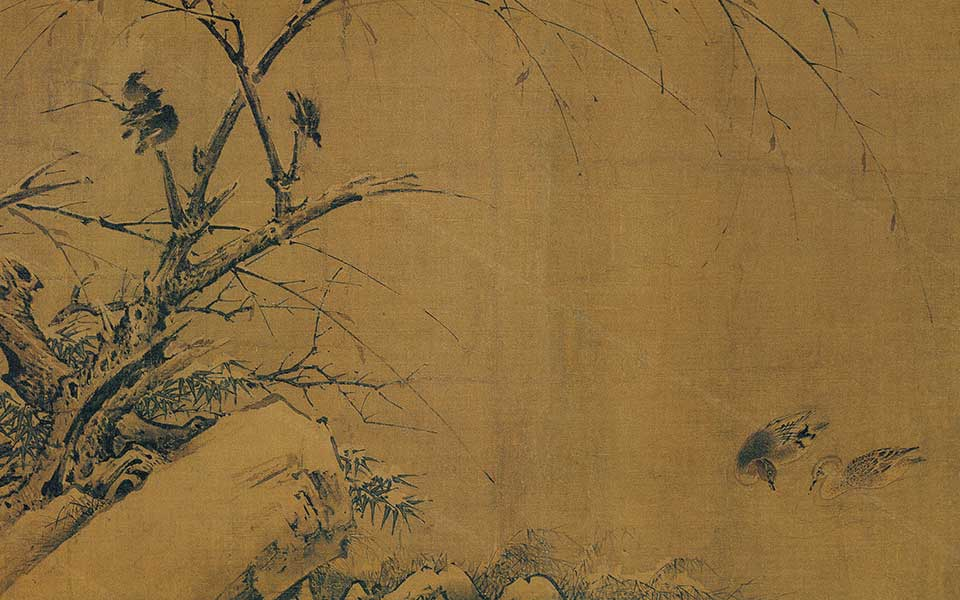bird: (710, 400, 948, 512), (111, 64, 184, 152), (280, 84, 336, 154)
hill: (132, 403, 634, 600)
tree: (1, 4, 373, 600)
